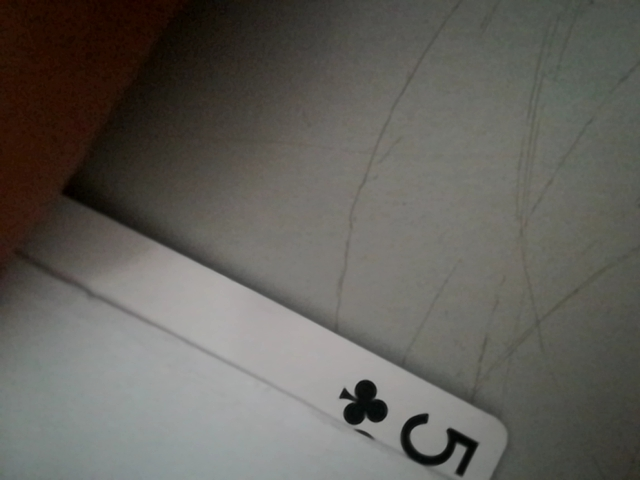mh 5: (326, 373, 495, 475)
